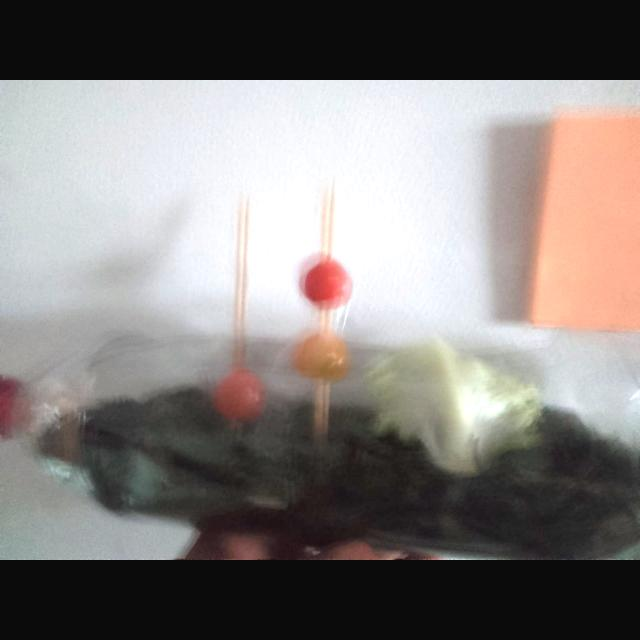card: (528, 112, 640, 331)
fruit_maturation: (293, 332, 350, 381), (214, 368, 265, 422)
fully_grown: (301, 258, 352, 309)
